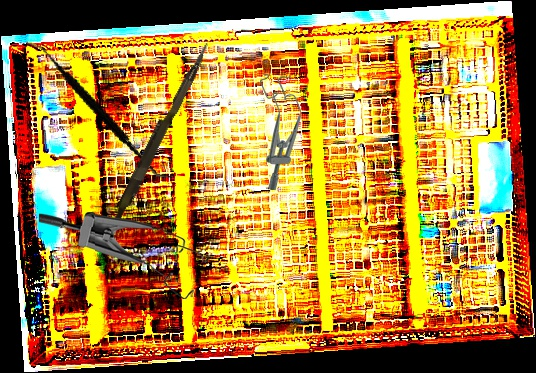Pusher: (96, 38, 212, 250)
Spatula Surgical: (2, 38, 198, 181)
Speculum: (37, 211, 210, 300), (260, 73, 301, 190)
